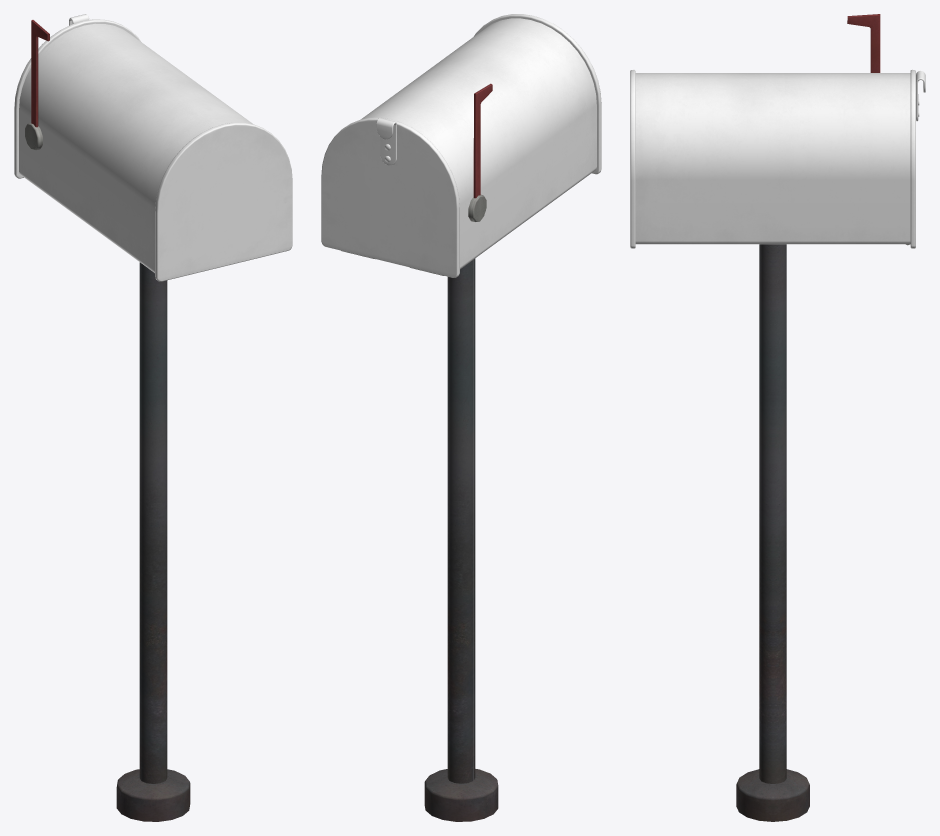
Rendered from Mailbox.glb.
3 views of the same model, side by side, from view 1: azimuth 30°, elevation 25°; view 2: azimuth 150°, elevation 25°; view 3: azimuth 270°, elevation 25° (orthographic).
Visible parts, largest first — view 1: Mailbox__LOD3; view 2: Mailbox__LOD3; view 3: Mailbox__LOD3.
Part boxes in pixels (x1,y1,x2,y2): Mailbox__LOD3: (14,14,292,821); Mailbox__LOD3: (321,14,601,821); Mailbox__LOD3: (630,14,925,821).
Bounding box in the file's own units: 0.2722 × 1.43 × 0.5051.
Materials: 1 (1 with a texture image).
